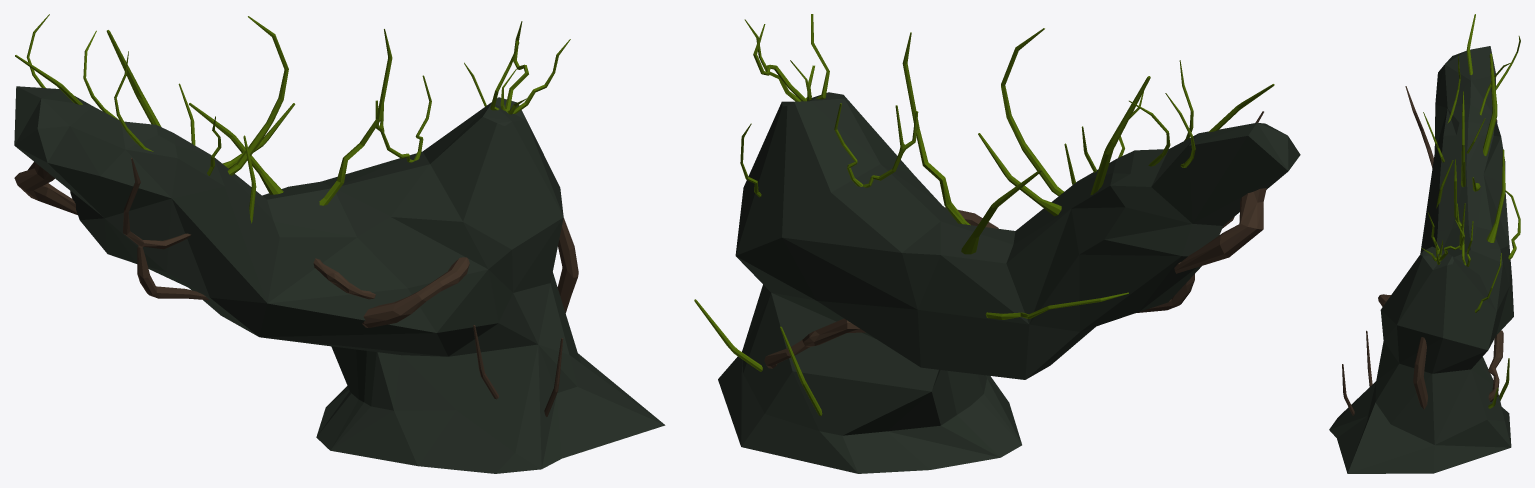
Rendered from SM_Tree_003.glb.
The picture shows the model from 3 angles, left to right: view 1: azimuth 30°, elevation 25°; view 2: azimuth 150°, elevation 25°; view 3: azimuth 270°, elevation 25°; orthographic projection. The views are drawn at different scales.
Visible parts, largest first — view 1: SM_Tree_003; view 2: SM_Tree_003; view 3: SM_Tree_003.
Part boxes in pixels (x1=…): SM_Tree_003: x1=14, y1=14, x2=665, y2=473; SM_Tree_003: x1=694, y1=14, x2=1300, y2=473; SM_Tree_003: x1=1329, y1=14, x2=1520, y2=473.
Size of the model in its own units: 5.19 by 3.84 by 2.36.
1 material, 1 textured.
